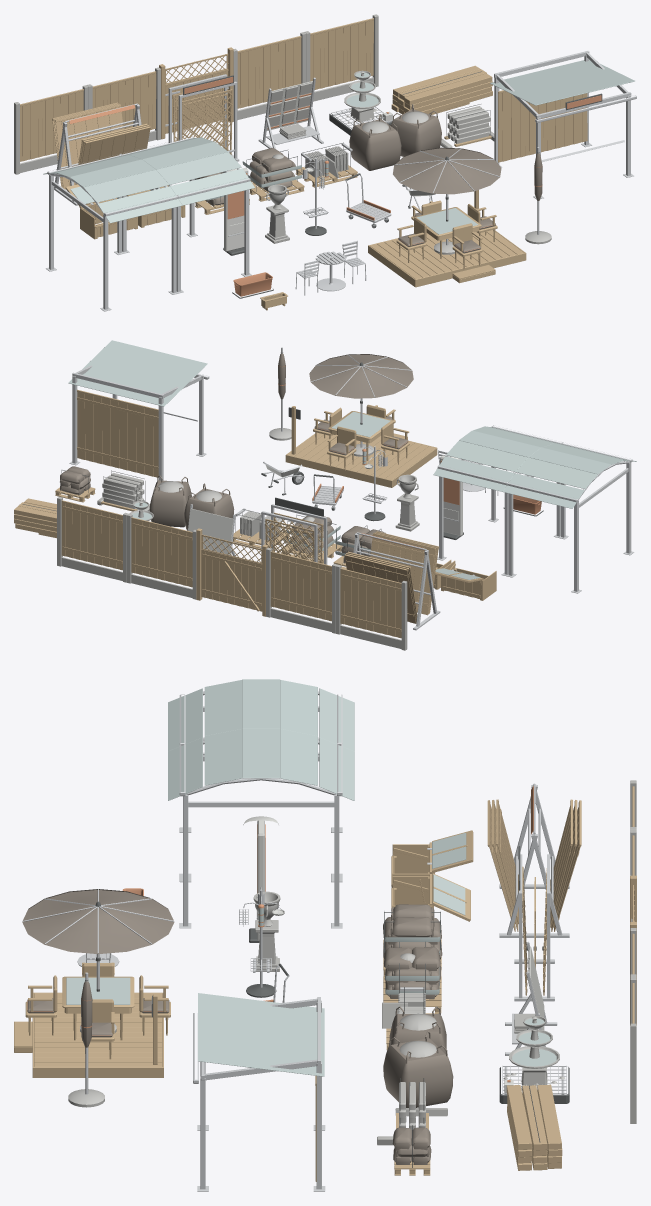
Rendered from garden-centre-and-florist-outdoor-landscaping-yard-7c8f5a72__17801.glb.
3 renders of one model, top to bottom at view 1: azimuth 30°, elevation 25°; view 2: azimuth 150°, elevation 25°; view 3: azimuth 270°, elevation 25°, orthographic. The views are drawn at different scales.
Parts seen in each view (by area): view 1: 027-garden-furniture-display-deck/0, 019-canopy-walkway-module/1, 020-canopy-walkway-module/1, 021-trolley-return-shelter/2, 029-parasol-display-open/3, 005-fence-panel-display-rack/1, 004-sales-area-fence-panel/1, 003-sales-area-fence-panel/1, 021-trolley-return-shelter/1, 009-sleeper-stack/0, 021-trolley-return-shelter/0, 000-sales-area-fence-panel/1 (+37 smaller); view 2: 021-trolley-return-shelter/2, 021-trolley-return-shelter/1, 019-canopy-walkway-module/1, 027-garden-furniture-display-deck/0, 020-canopy-walkway-module/1, 005-fence-panel-display-rack/1, 029-parasol-display-open/3, 002-sales-area-fence-gate/sales-gate, 000-sales-area-fence-panel/1, 001-sales-area-fence-panel/1, 004-sales-area-fence-panel/1, 003-sales-area-fence-panel/1 (+29 smaller); view 3: 020-canopy-walkway-module/1, 019-canopy-walkway-module/1, 027-garden-furniture-display-deck/0, 021-trolley-return-shelter/1, 029-parasol-display-open/3, 009-sleeper-stack/0, 005-fence-panel-display-rack/1, 020-canopy-walkway-module/0, 028-garden-furniture-set/0, 021-trolley-return-shelter/0, 016-aggregate-bulk-bag/0, 005-fence-panel-display-rack/0 (+21 smaller).
Boxes of the visible parts, x1,y1,x2,y2 form: 027-garden-furniture-display-deck/0: (368, 190, 526, 287); 019-canopy-walkway-module/1: (43, 155, 182, 223); 020-canopy-walkway-module/1: (123, 137, 254, 205); 021-trolley-return-shelter/2: (498, 90, 587, 162); 029-parasol-display-open/3: (393, 147, 501, 194); 005-fence-panel-display-rack/1: (52, 102, 150, 189); 004-sales-area-fence-panel/1: (310, 18, 373, 89); 003-sales-area-fence-panel/1: (237, 36, 301, 108); 021-trolley-return-shelter/1: (490, 59, 634, 105); 009-sleeper-stack/0: (391, 65, 492, 114); 021-trolley-return-shelter/0: (494, 51, 636, 199); 000-sales-area-fence-panel/1: (20, 89, 83, 161); 021-trolley-return-shelter/2: (77, 389, 158, 477); 021-trolley-return-shelter/1: (68, 340, 207, 406); 019-canopy-walkway-module/1: (503, 443, 636, 508); 027-garden-furniture-display-deck/0: (285, 406, 437, 487); 020-canopy-walkway-module/1: (433, 426, 559, 491); 005-fence-panel-display-rack/1: (344, 531, 439, 623); 029-parasol-display-open/3: (309, 354, 413, 398); 002-sales-area-fence-gate/sales-gate: (201, 534, 262, 611); 000-sales-area-fence-panel/1: (340, 568, 401, 638); 001-sales-area-fence-panel/1: (270, 551, 331, 621); 004-sales-area-fence-panel/1: (61, 500, 122, 570); 003-sales-area-fence-panel/1: (131, 517, 192, 587); 020-canopy-walkway-module/1: (168, 728, 354, 800); 019-canopy-walkway-module/1: (168, 679, 354, 751); 027-garden-furniture-display-deck/0: (14, 992, 163, 1077); 021-trolley-return-shelter/1: (198, 993, 324, 1076); 029-parasol-display-open/3: (22, 889, 174, 954); 009-sleeper-stack/0: (506, 1084, 562, 1170); 005-fence-panel-display-rack/1: (487, 799, 581, 931); 020-canopy-walkway-module/0: (179, 740, 342, 928); 028-garden-furniture-set/0: (25, 962, 170, 1059); 021-trolley-return-shelter/0: (193, 997, 325, 1191); 016-aggregate-bulk-bag/0: (383, 1031, 453, 1107); 005-fence-panel-display-rack/0: (499, 783, 569, 937).
Size of the model in its own units: 14.82 by 2.84 by 10.71.
